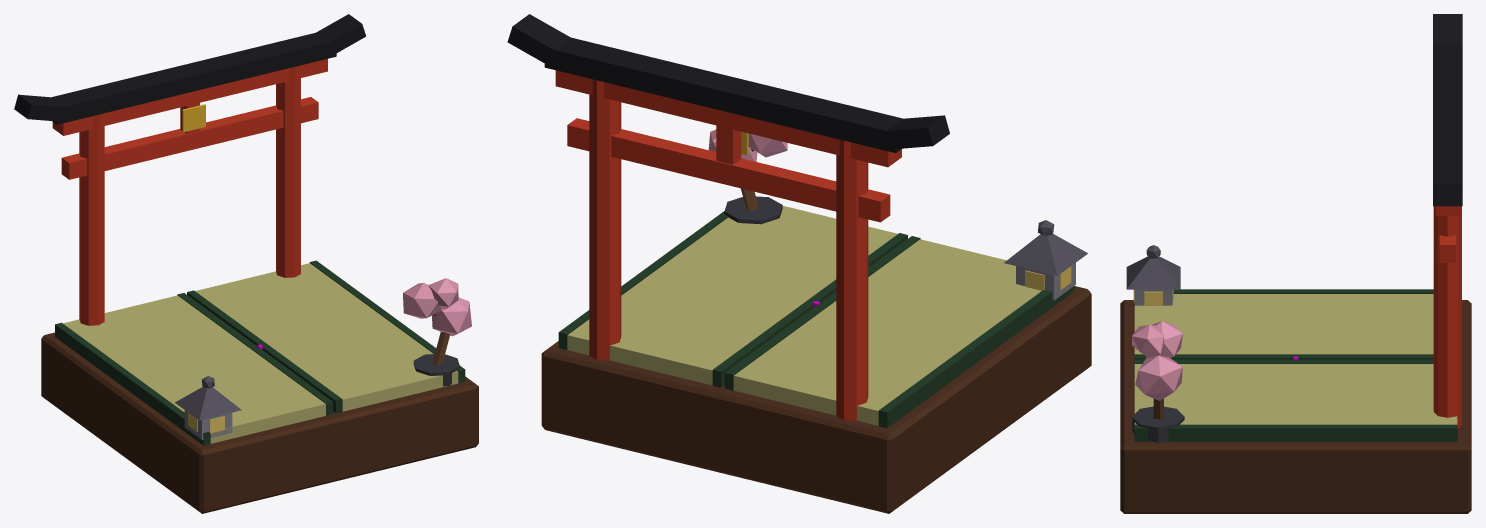
The model's file is Platform_SamuraiShiba.fbx.
3 renders of one model, left to right at view 1: azimuth 30°, elevation 25°; view 2: azimuth 150°, elevation 25°; view 3: azimuth 270°, elevation 25°, orthographic. The views are drawn at different scales.
Parts seen in each view (by area): view 1: Body.001; view 2: Body.001; view 3: Body.001.
Part boxes in pixels (bbox=[...]): Body.001: bbox=[14, 14, 478, 513]; Body.001: bbox=[507, 14, 1091, 513]; Body.001: bbox=[1120, 14, 1471, 513].
Size of the model in its own units: 8.96 by 7.9 by 7.4.
